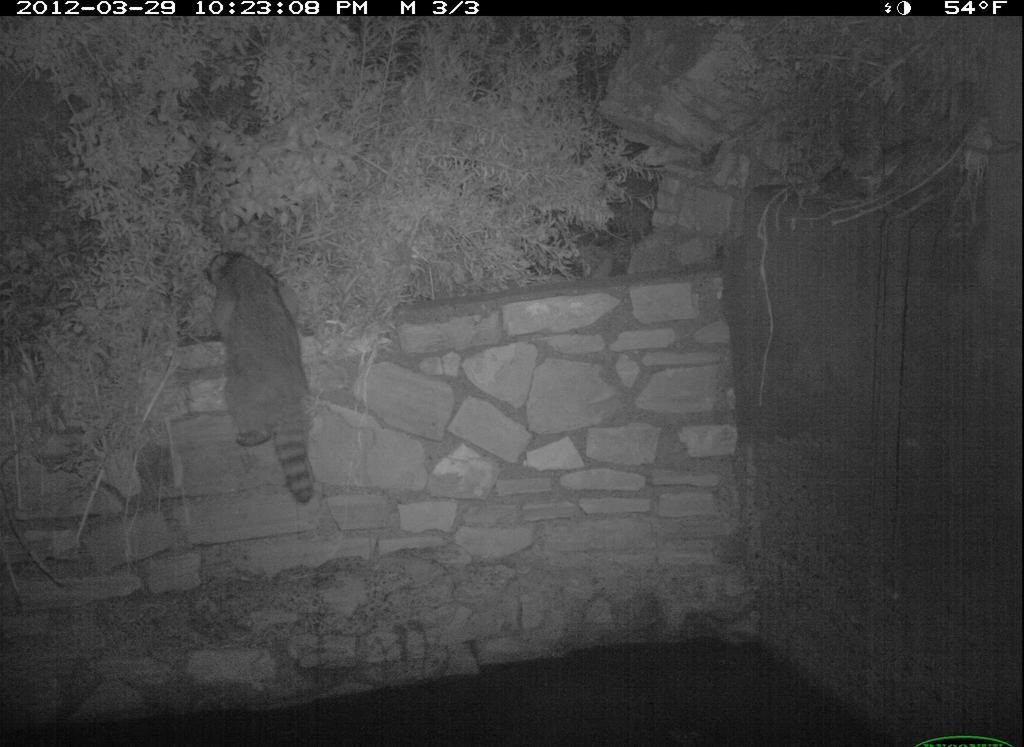raccoon: (187, 232, 346, 511)
